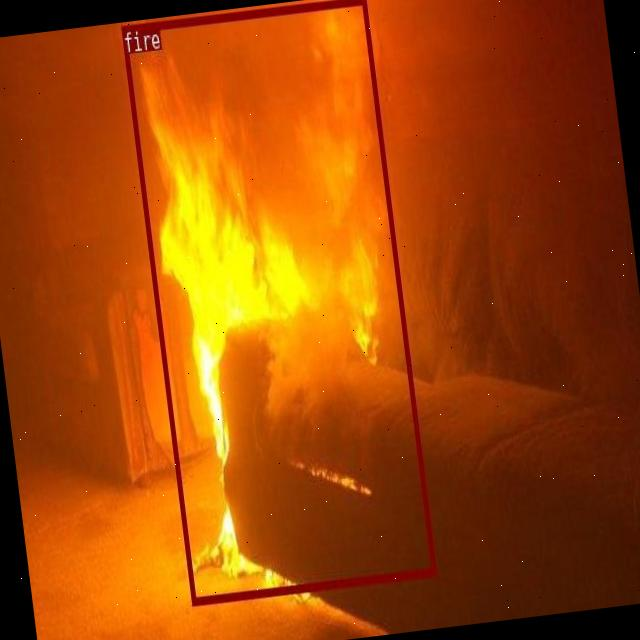fire: (120, 0, 435, 604)
